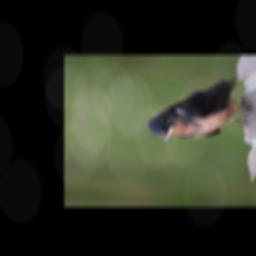Swallow: (142, 70, 256, 147)
